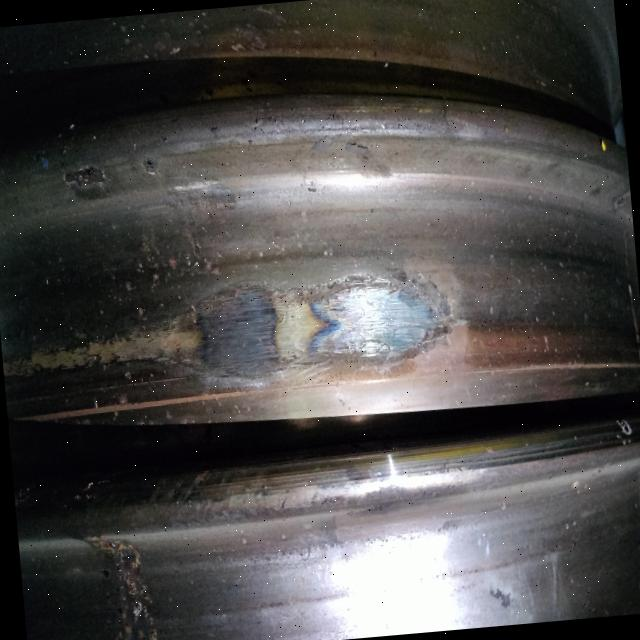flat: (62, 262, 462, 409)
